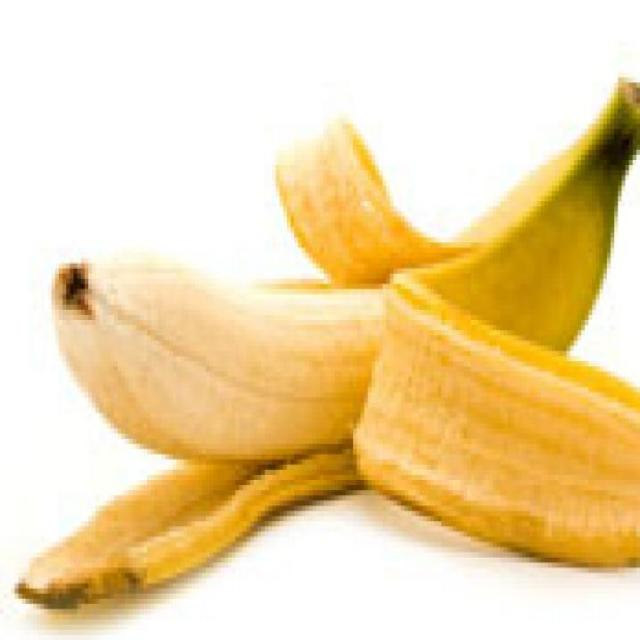banana: (26, 112, 640, 617)
